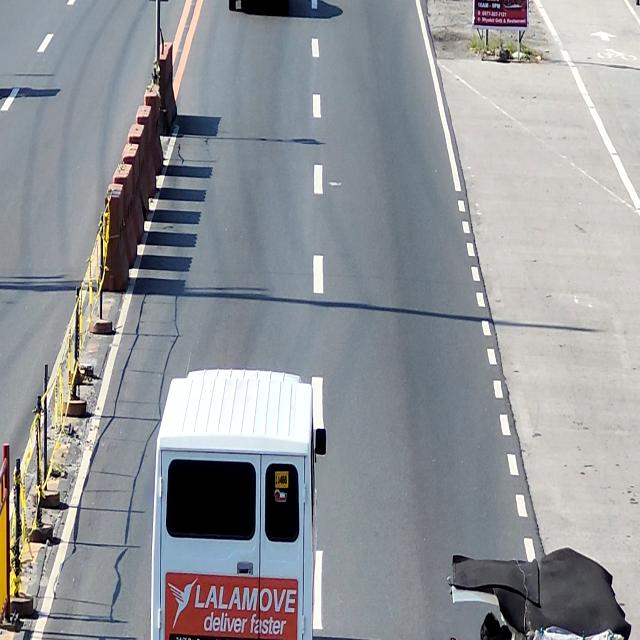Car: (152, 369, 326, 640)
